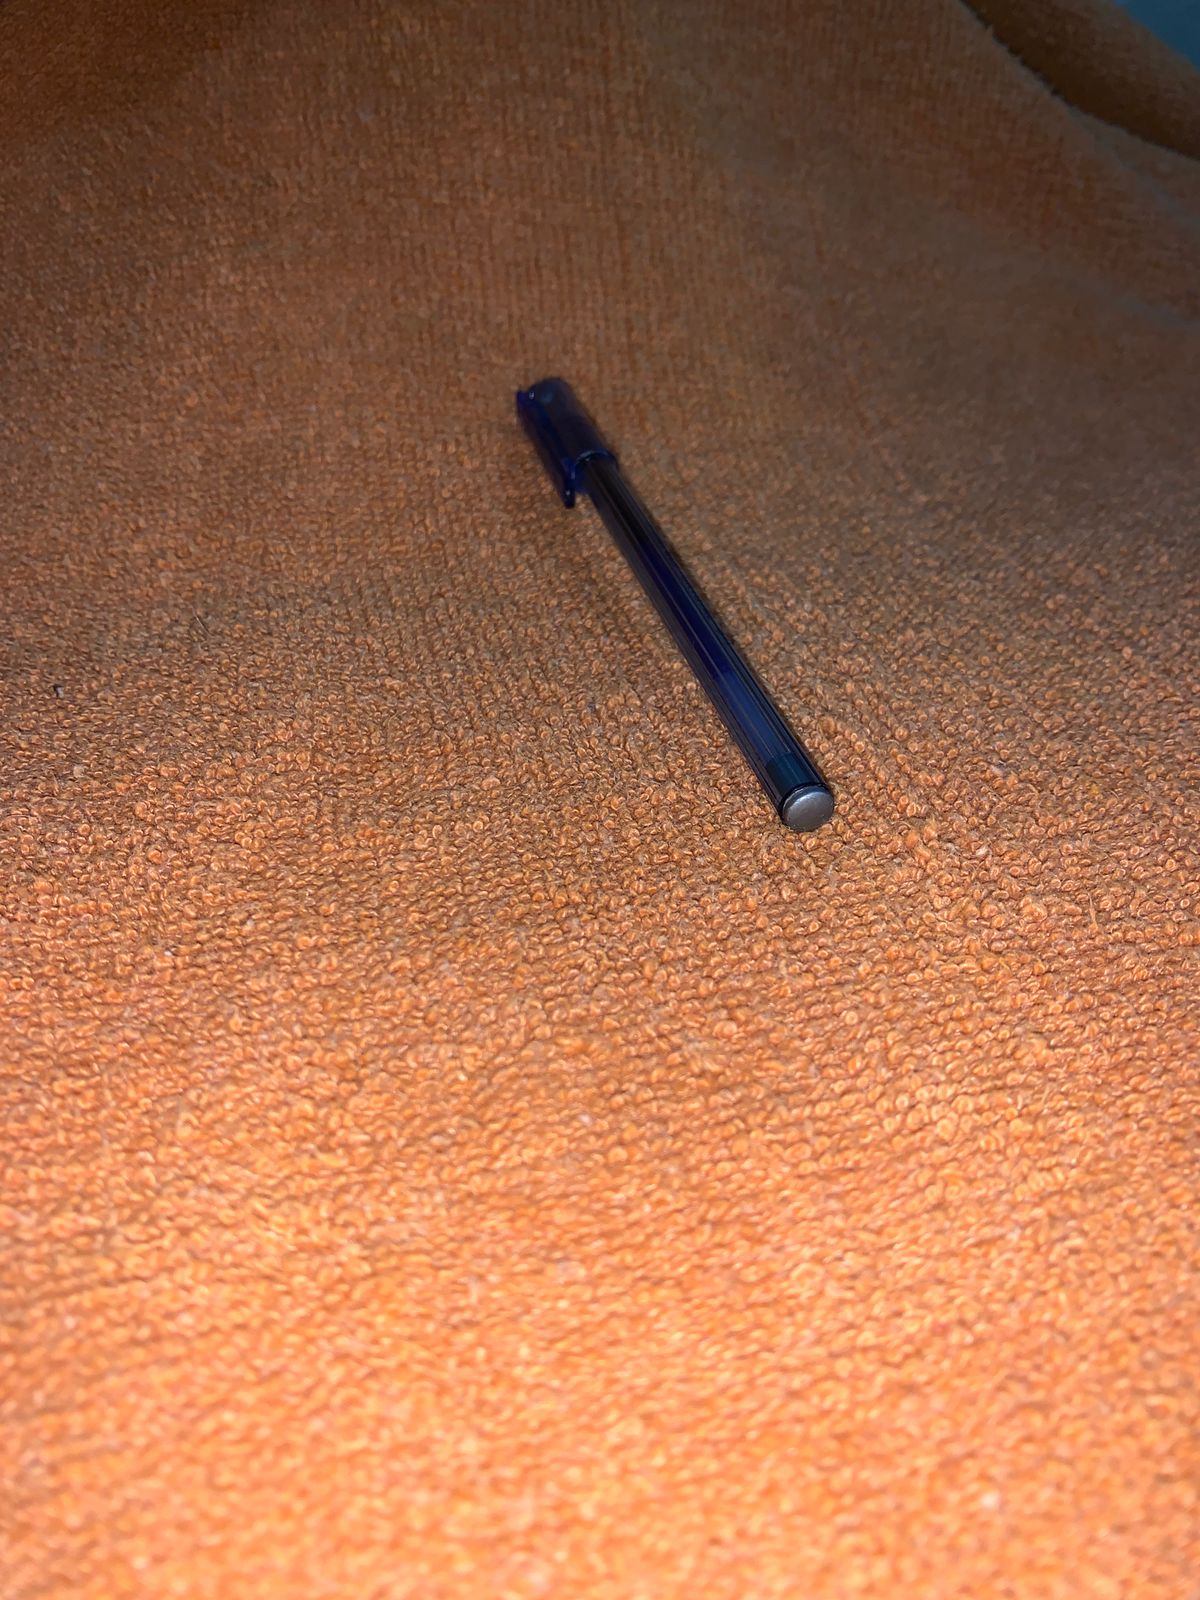pen: (424, 325, 963, 918)
